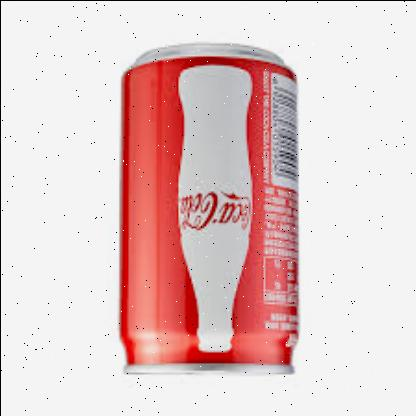Can: (114, 42, 300, 378)
